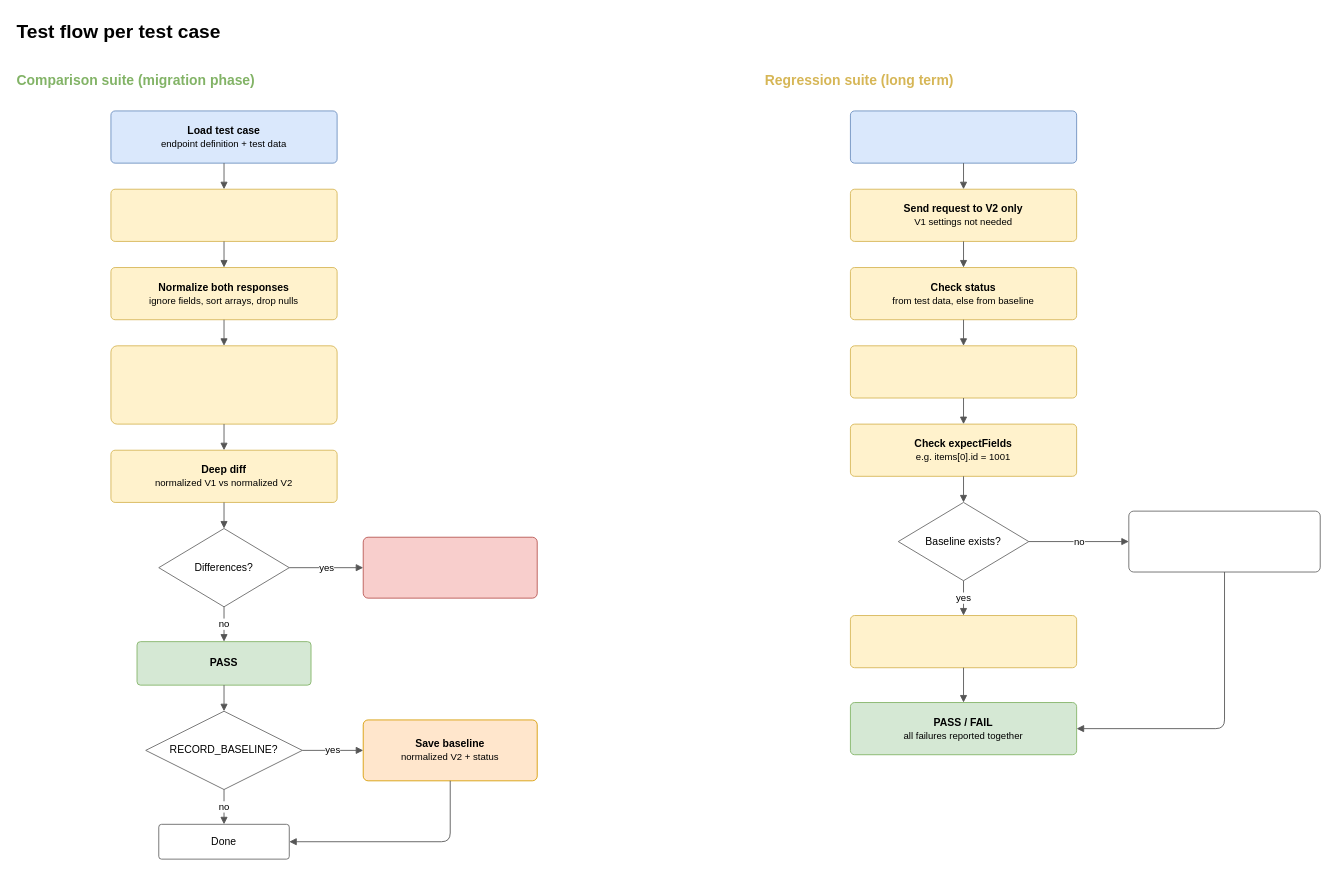
Image size: 1335x874. Some labels were removed from this diagram. The shapes that lost their labels are listed below. From the top down, each one's centre as x and y in pixels, then its label:
(x=963, y=136): Load test case + baseline baseline may not exist
(x=223, y=214): Send the same request to V1 and V2 in parallel
(x=223, y=384): Soft checks V2 status = V1 status V1 status = expectedStatus V2 matches schema
(x=963, y=371): Validate schema if the endpoint has one
(x=1224, y=541): Status, schema and field checks only (annotated)
(x=449, y=567): FAIL field level diff in message V1, V2 and diff attached
(x=963, y=641): Normalize V2 + diff against the baseline
